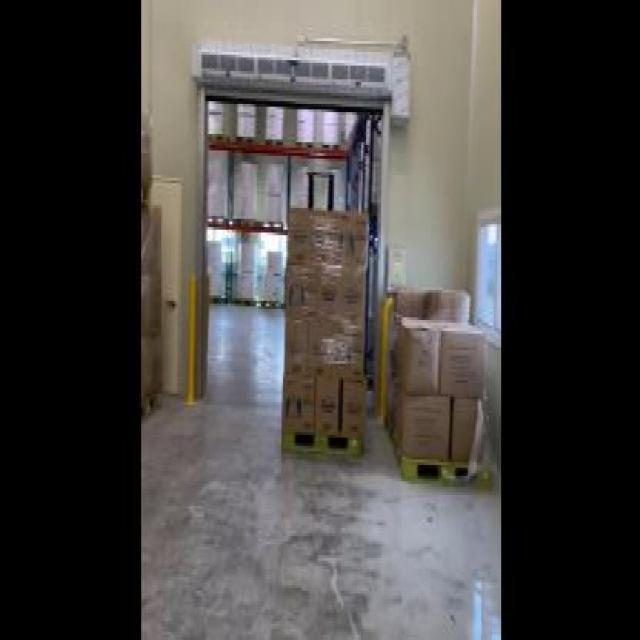box: (272, 208, 370, 470), (389, 276, 497, 490)
white_roll: (203, 162, 228, 222), (264, 240, 284, 312), (236, 241, 258, 301), (237, 162, 257, 224), (263, 161, 285, 216), (204, 238, 222, 301), (262, 101, 288, 140), (205, 99, 226, 142), (320, 101, 340, 145), (342, 104, 358, 153), (234, 107, 255, 142), (296, 110, 316, 140)
